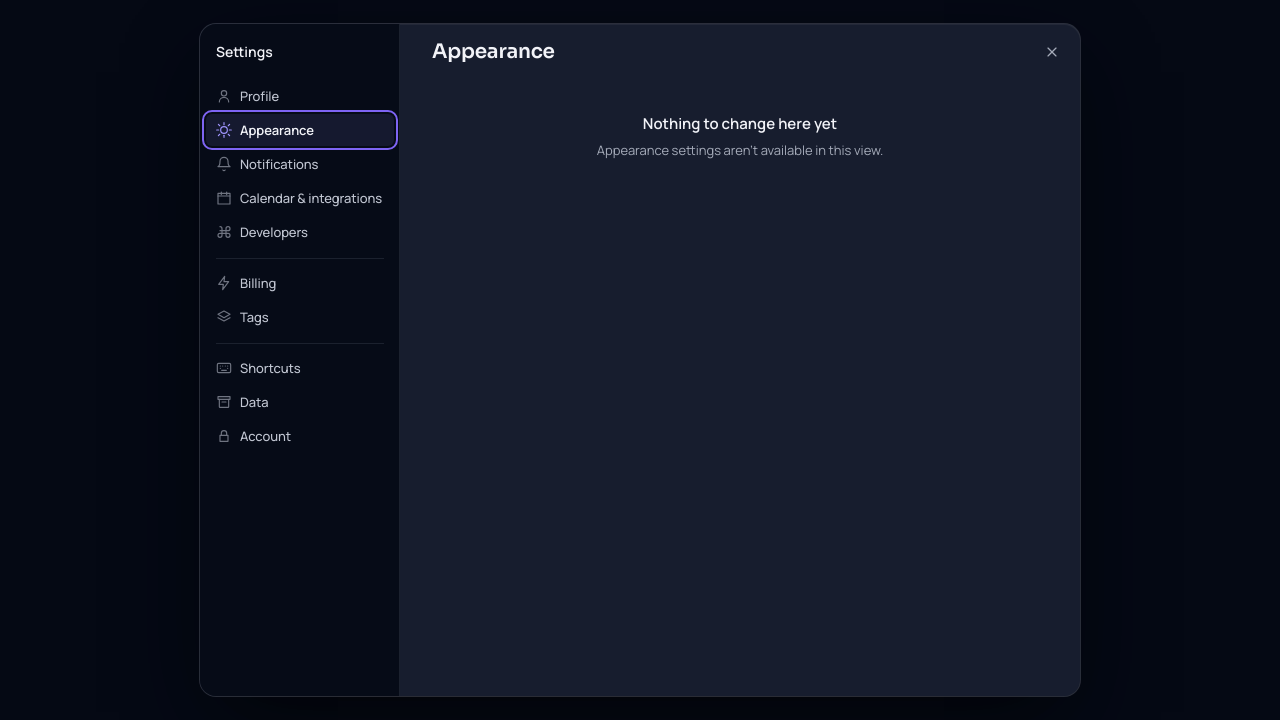
Test case: Settings › Developers, code not loaded › explains and offers a reload instead of breaking the app
Click the tab "Developers": (300, 232) [206,216,394,248]
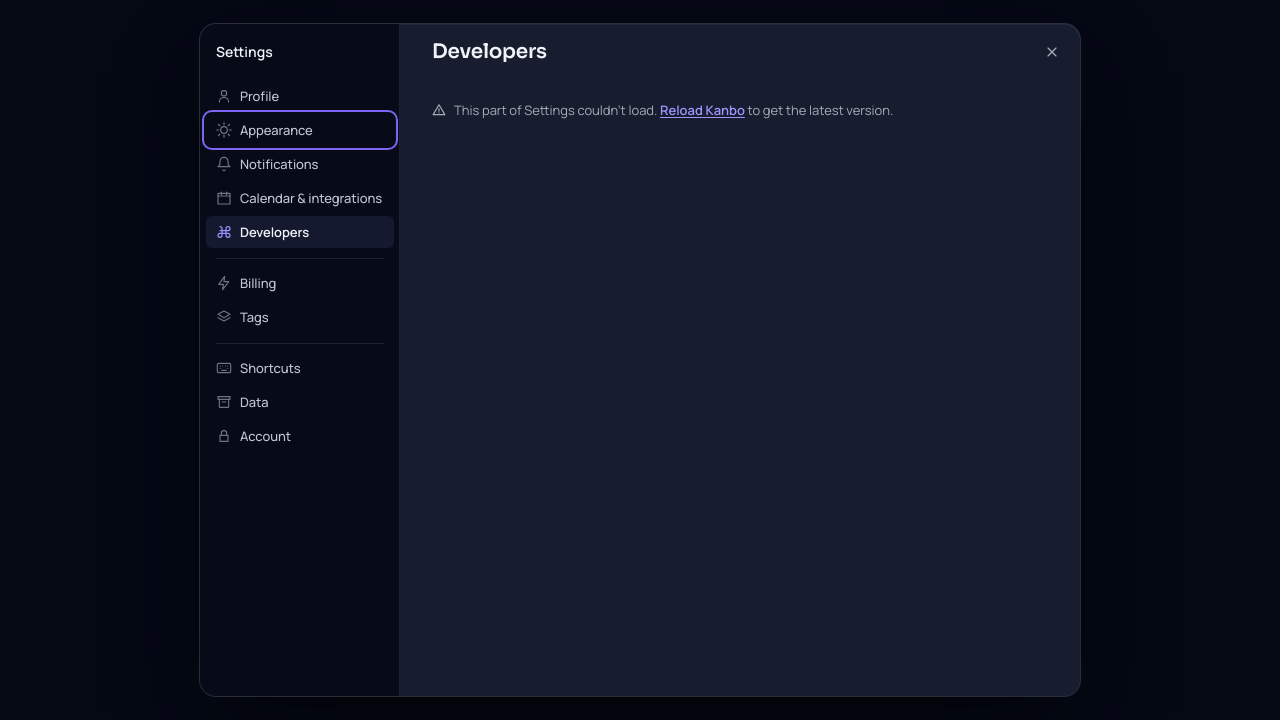
Check: the message shows "This part of Settings couldn't load.", box [454,101,660,119]
Check: the button "Reload Kanbo" is shown, box [660,100,745,120]
# the rest of Settings still works
Click the tab "Appearance": (300, 130) [206,114,394,146]
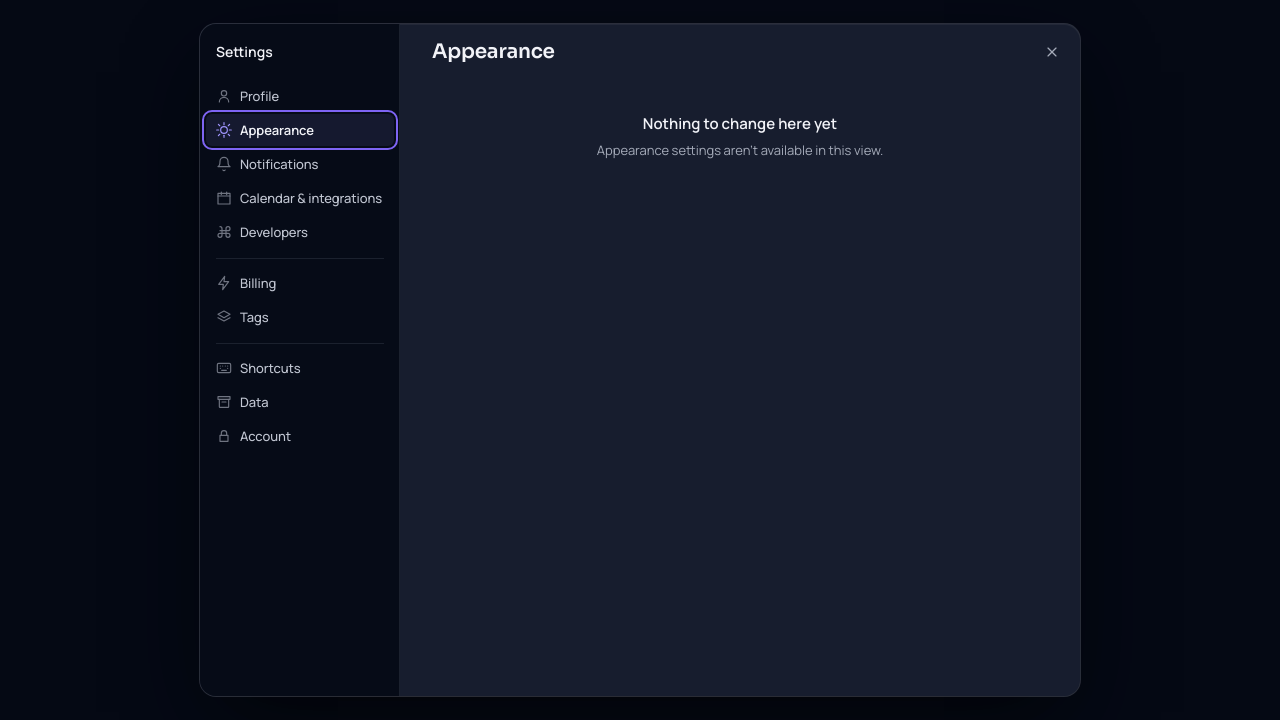
Check: the heading "Appearance" is shown, box [432,39,555,64]
